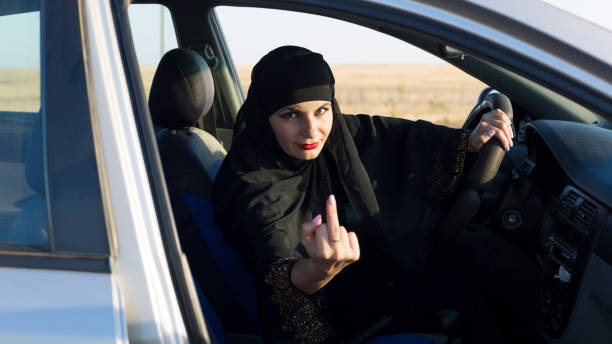insulting_gesture: (296, 193, 361, 286)
